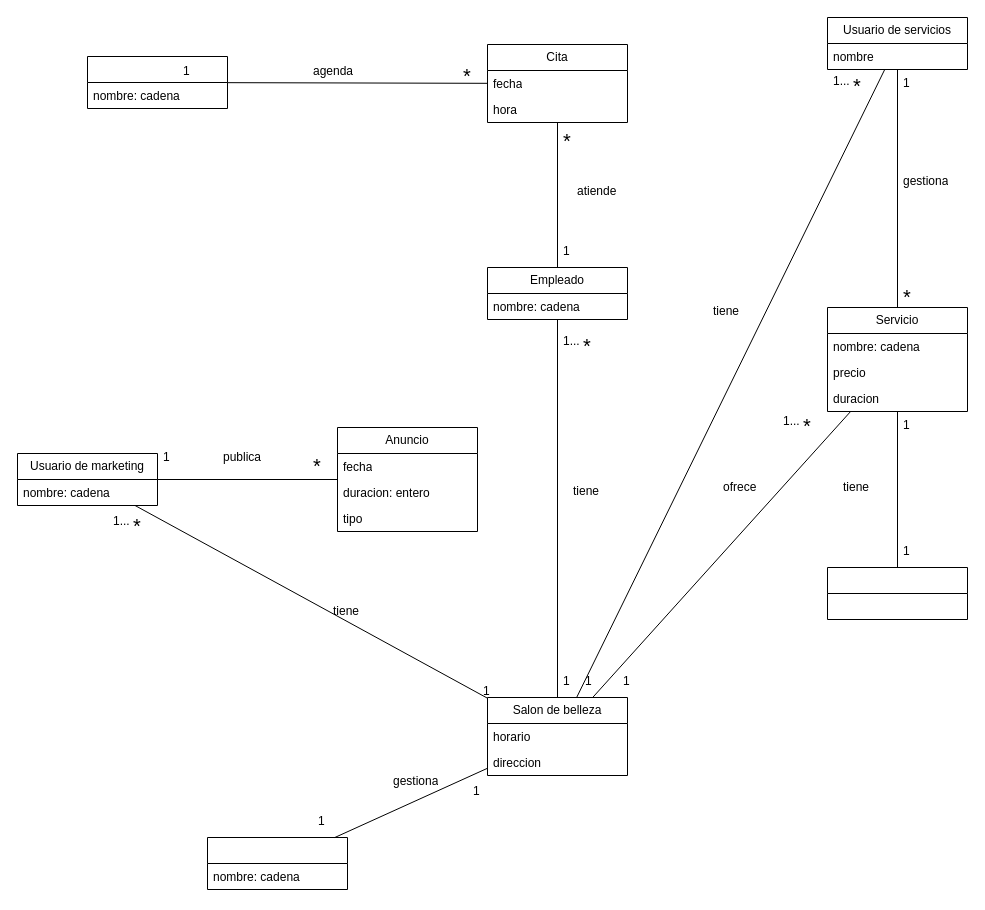
Image size: 985x910. Some labels were removed from this diagram. The box of each missing label's shape, as (x1, y1, x2, y2) in pixels:
Administrador: (206, 836, 348, 890)
catalogo: (826, 566, 968, 620)
Cliente: (86, 56, 228, 108)
